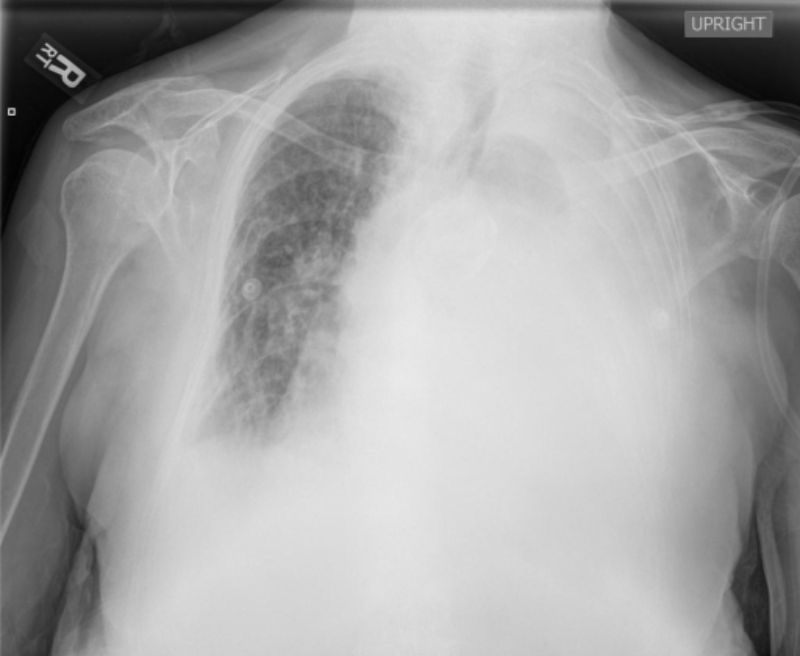Pleural Effusion: (477, 156, 668, 489), (155, 413, 332, 521)
